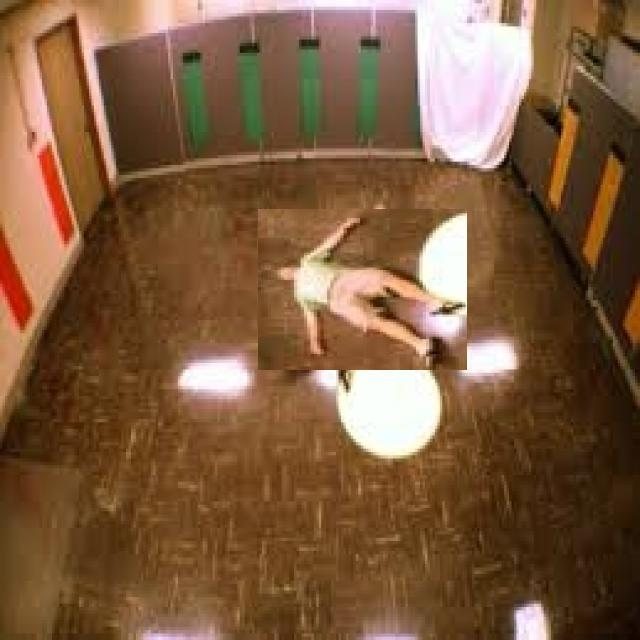Fall: (240, 224, 469, 371)
